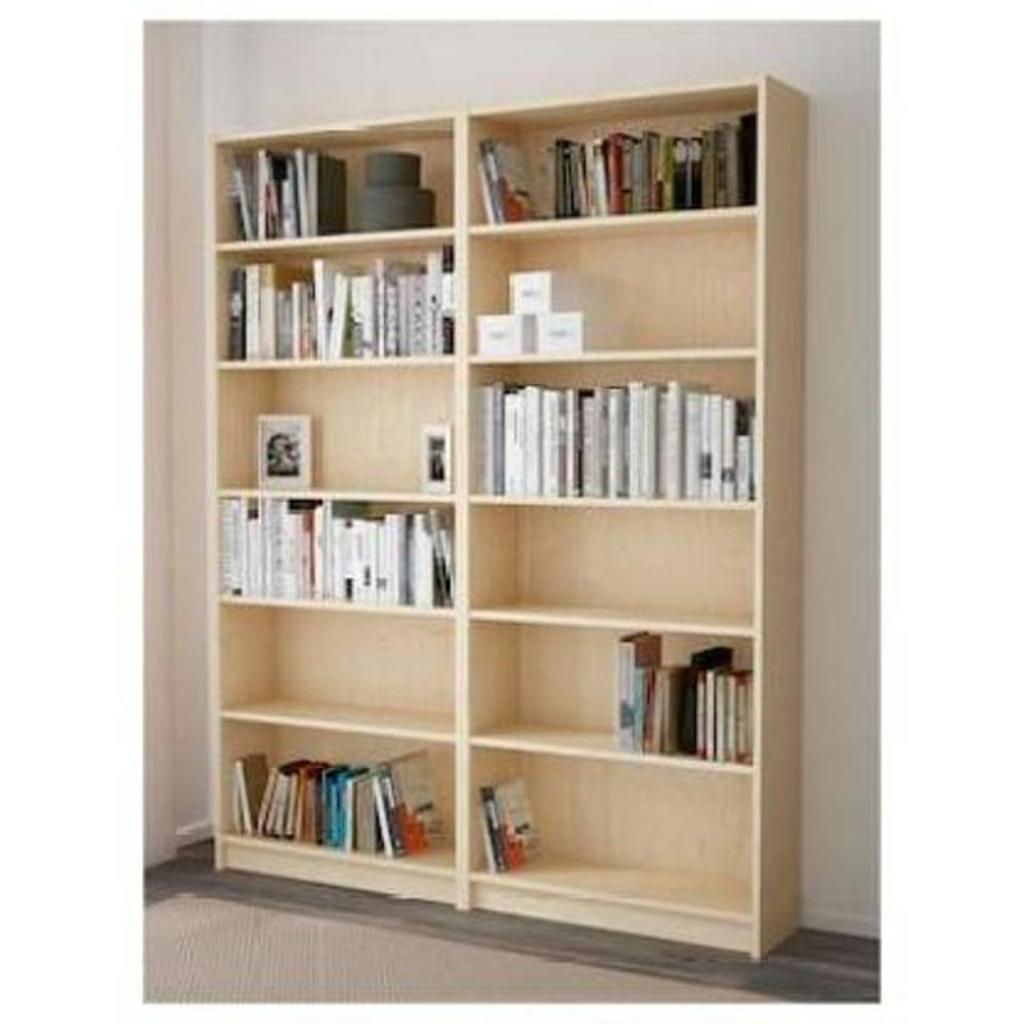lamp: (204, 76, 813, 970)
